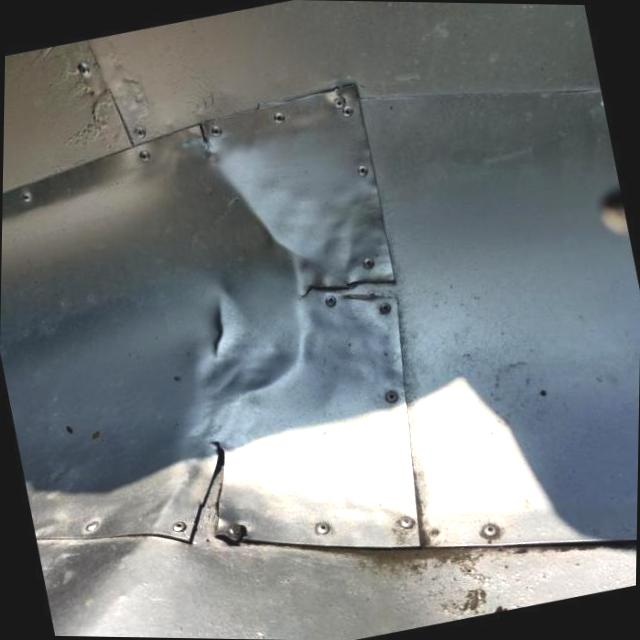dent: (95, 125, 374, 450)
